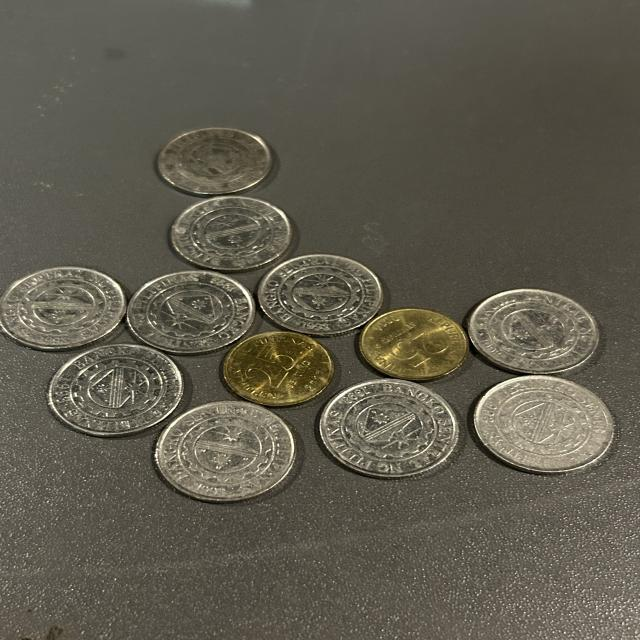1_Old_Back: (486, 388, 602, 462), (19, 266, 114, 356), (59, 348, 174, 422), (174, 408, 284, 484), (332, 390, 436, 470), (138, 259, 239, 338), (173, 198, 280, 272), (481, 296, 586, 366), (269, 265, 377, 329)
25Cent_Old_Front: (354, 310, 457, 373), (237, 343, 313, 400)
